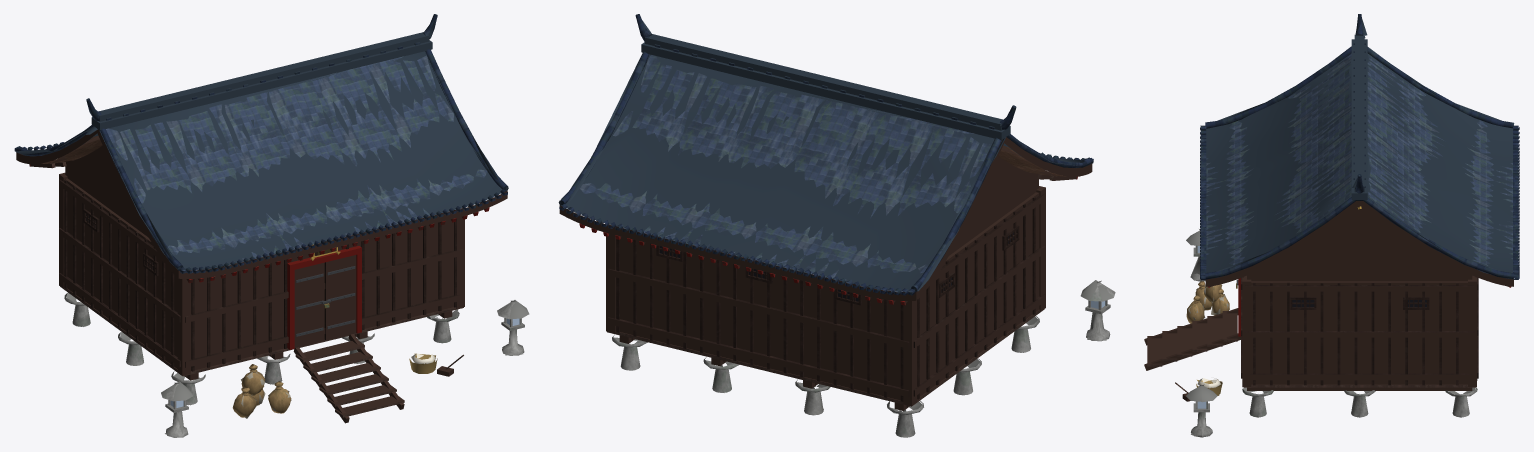
File: prop_granary.gltf
3 views of the same model, side by side, from view 1: azimuth 30°, elevation 25°; view 2: azimuth 150°, elevation 25°; view 3: azimuth 270°, elevation 25° (orthographic). The views are drawn at different scales.
Visible parts, largest first — view 1: Far, Near; view 2: Far, Near; view 3: Far, Near.
Part boxes in pixels (<box>): Far: <box>15,14,529,437</box>; Near: <box>14,14,524,437</box>; Far: <box>558,14,1113,437</box>; Near: <box>559,14,1115,437</box>; Far: <box>1144,14,1513,437</box>; Near: <box>1147,14,1519,437</box>.
Bounding box in the file's own units: 10.64 × 7.73 × 9.98.
18 materials, 10 textured.
